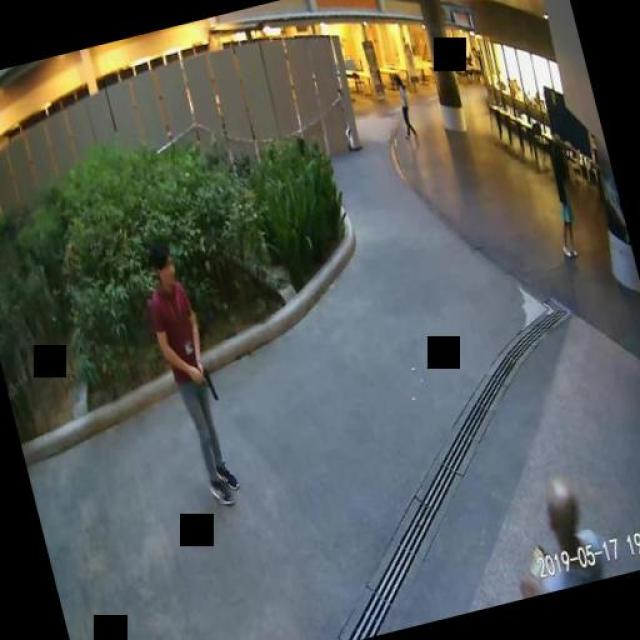gun: (195, 365, 216, 403)
